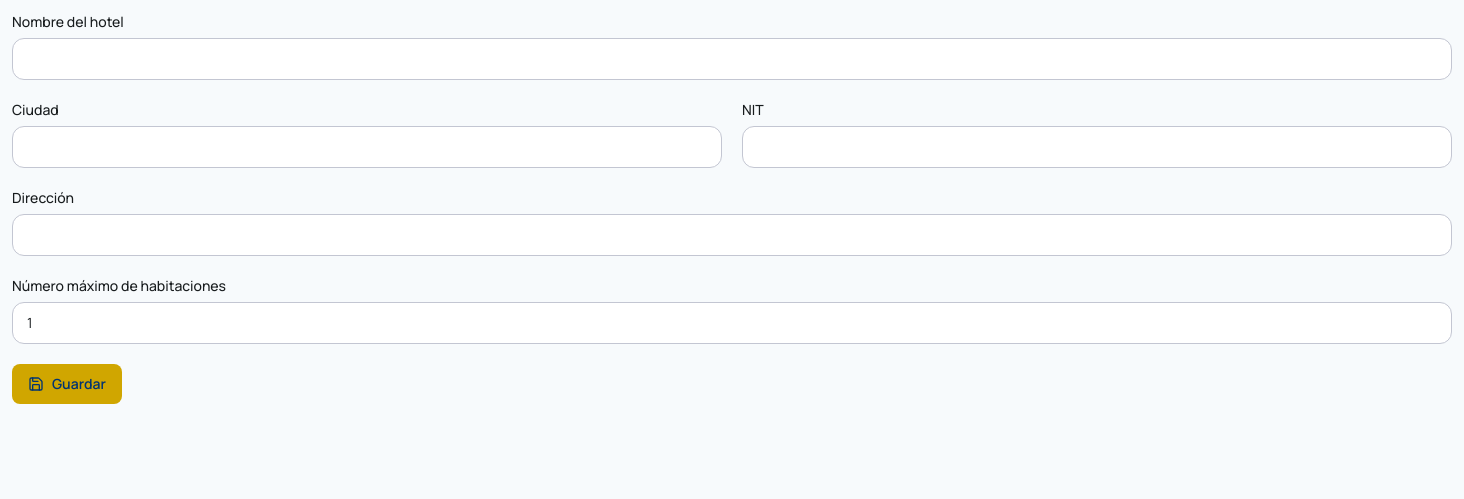
HotelForm › muestra errores de validación cuando se envía vacío
This screenshot has width=1464, height=499.
Click the button "Guardar": click(67, 384) [12,364,122,404]
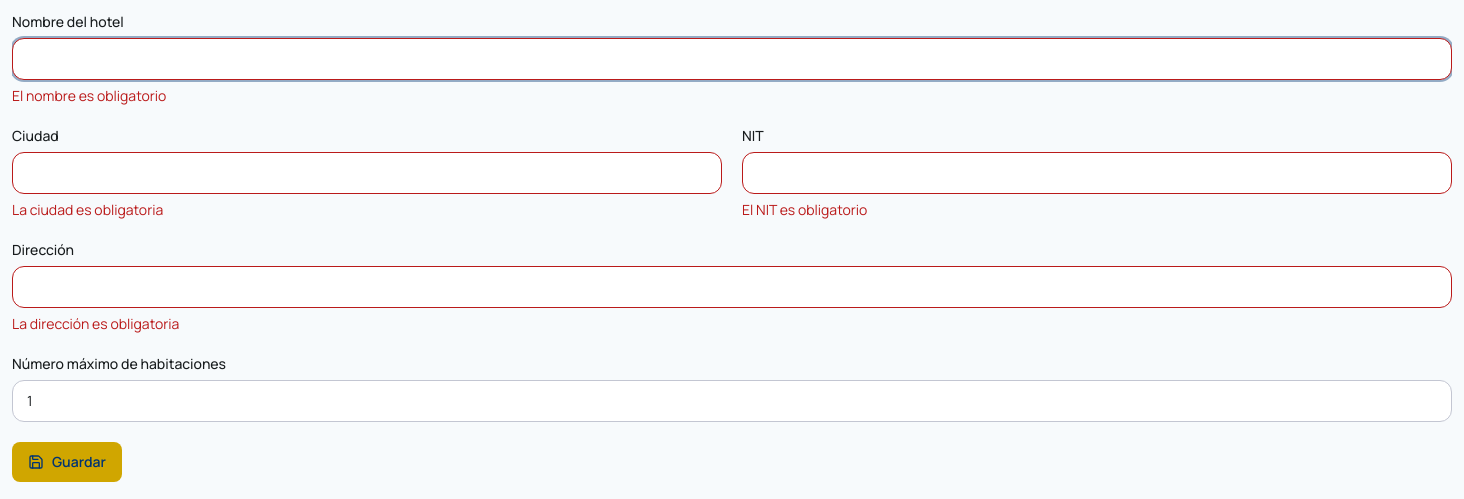
Expected: the text "El nombre es obligatorio" is shown, [12,86,166,105]
